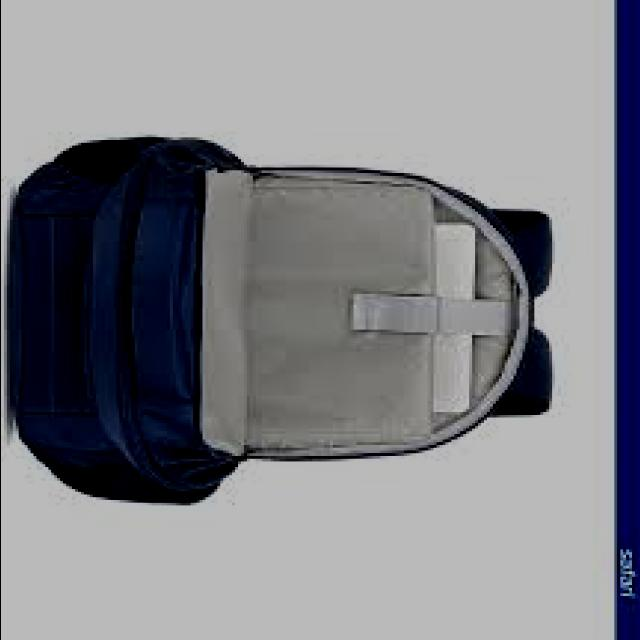backpack: (10, 136, 558, 507)
